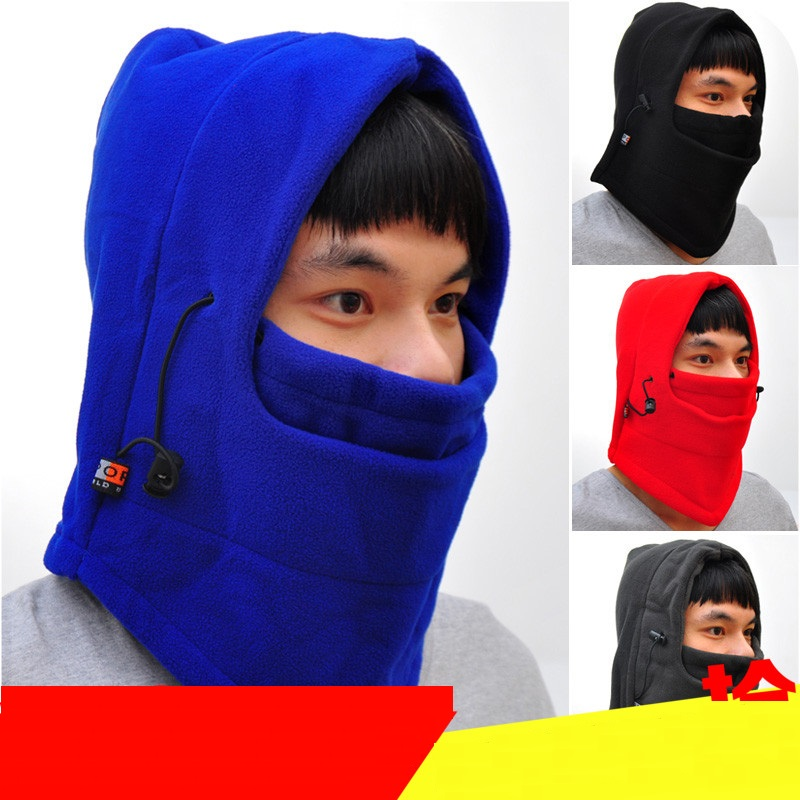face_mask: (223, 143, 480, 549), (658, 311, 753, 443), (674, 42, 760, 181), (685, 584, 758, 698)
